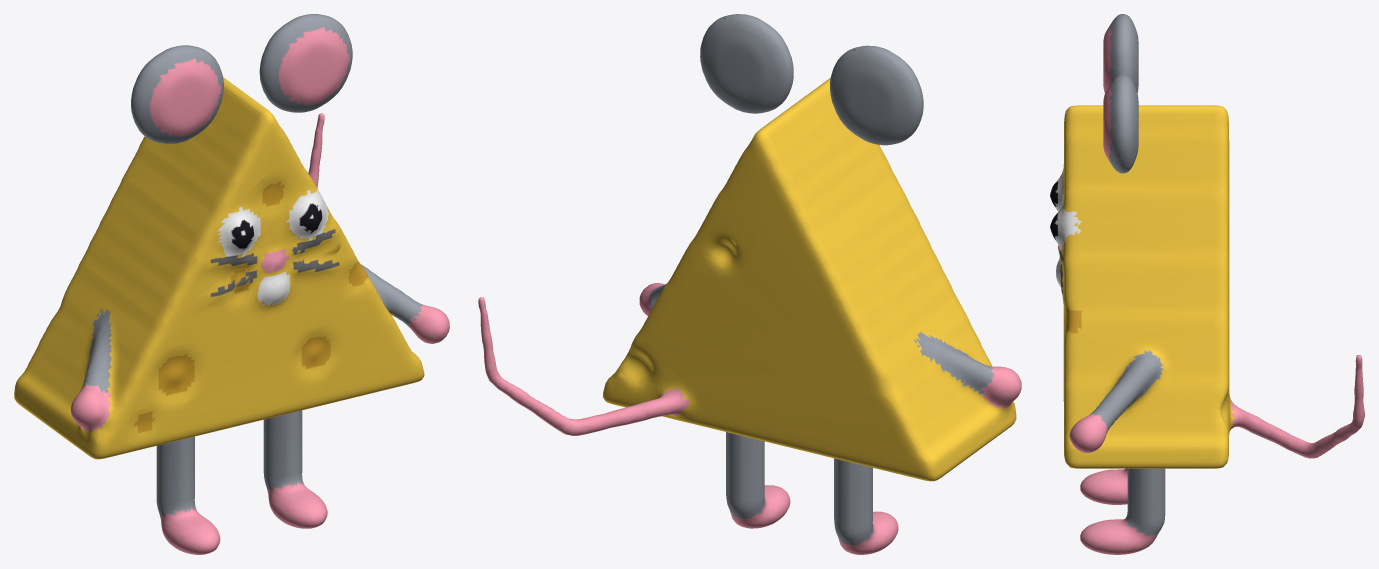
The model's file is SM_Tim_Cheese.fbx.
3 renders of one model, left to right at view 1: azimuth 30°, elevation 25°; view 2: azimuth 150°, elevation 25°; view 3: azimuth 270°, elevation 25°, orthographic. The views are drawn at different scales.
Visible parts, largest first — view 1: Tim_Cheese; view 2: Tim_Cheese; view 3: Tim_Cheese.
Boxes of the visible parts, x1,y1,x2,y2 form: Tim_Cheese: (14,14,449,554); Tim_Cheese: (478,14,1021,554); Tim_Cheese: (1050,14,1364,554).
Bounding box in the file's own units: 1.1 × 1.34 × 0.8001.
Materials: 1 (1 with a texture image).
